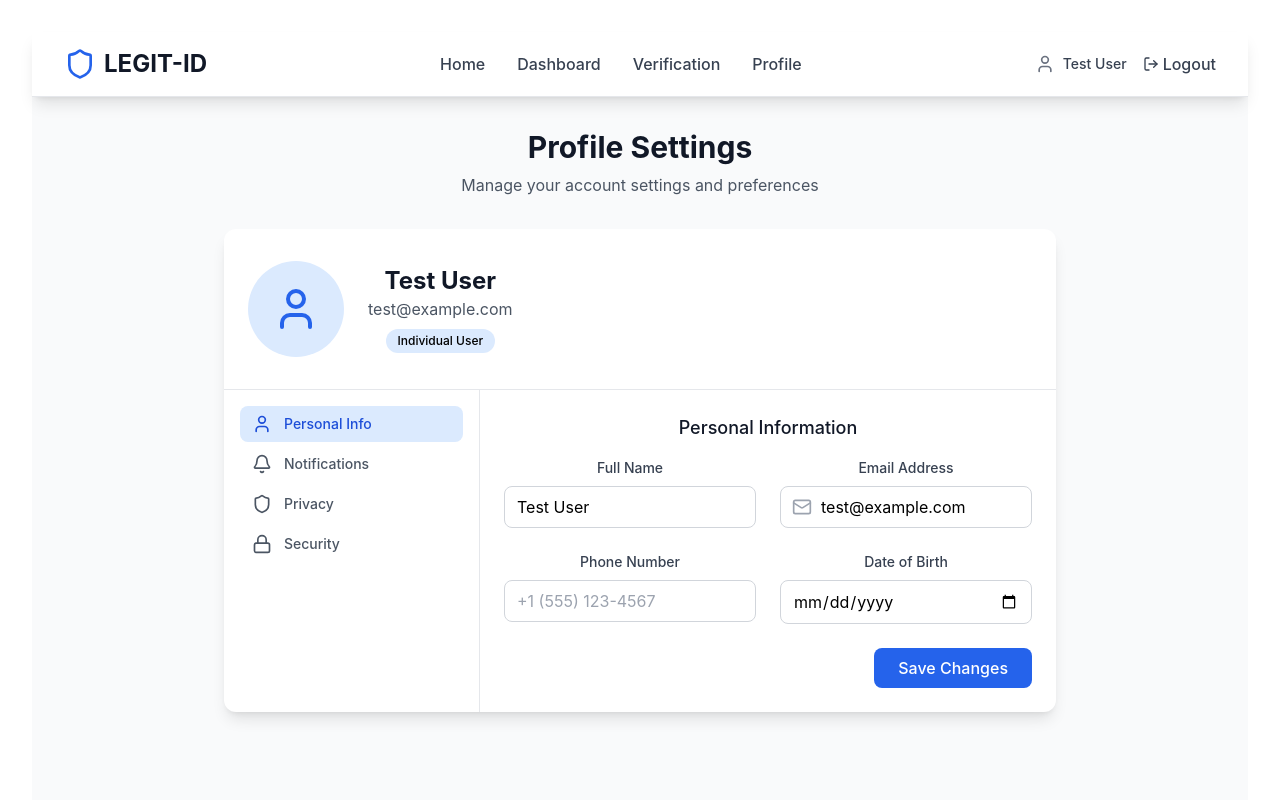
Test: ProfilePage › switches to privacy tab
Click the button "Privacy". click: point(352, 504)
box: [240,486,463,522]
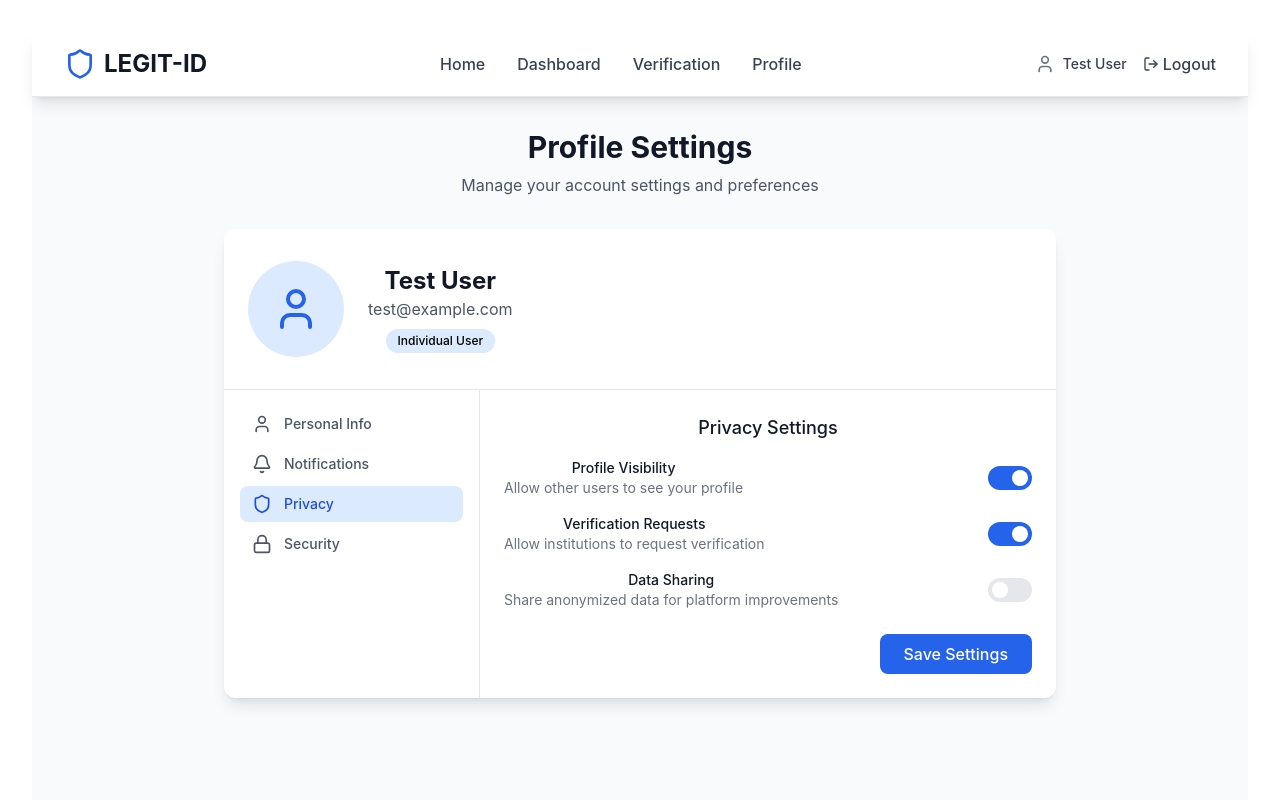
Check: the heading "Privacy Settings" is shown, box [698,417,838,438]
Check: the text "Profile Visibility" is shown, box [572,459,675,476]
Check: the button "Save Settings" is shown, box [880,634,1032,674]
